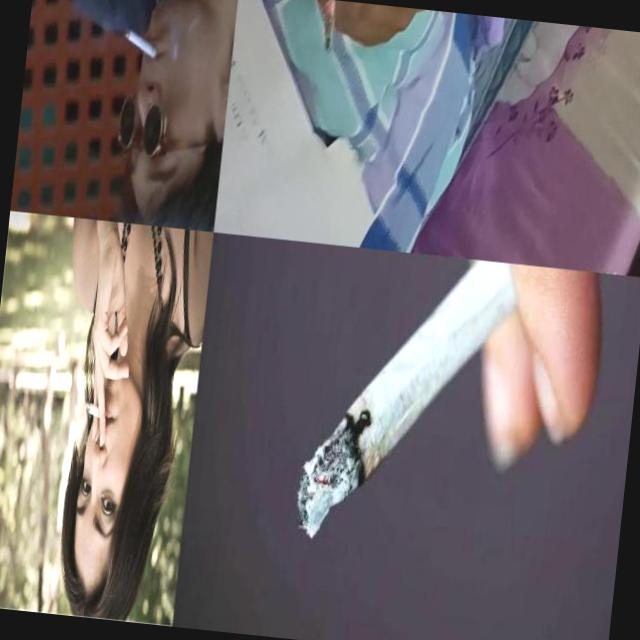cigarette: (291, 243, 563, 564), (122, 27, 160, 59), (314, 0, 336, 51), (84, 401, 106, 422)
